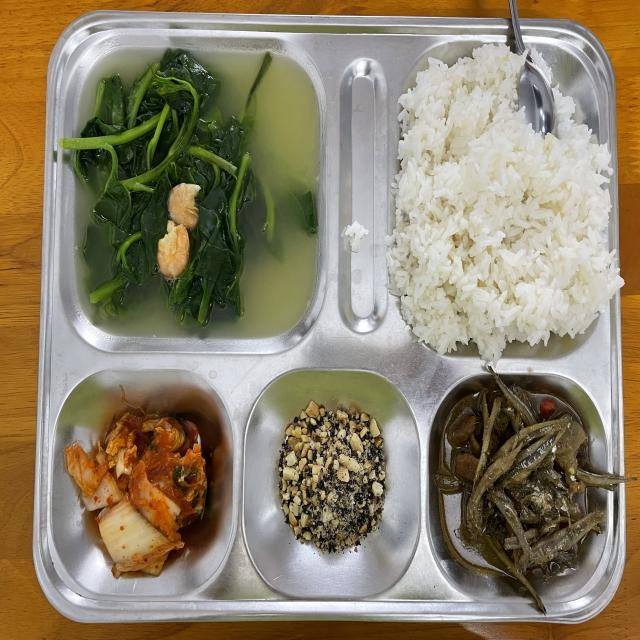com_trang: (405, 62, 610, 352)
